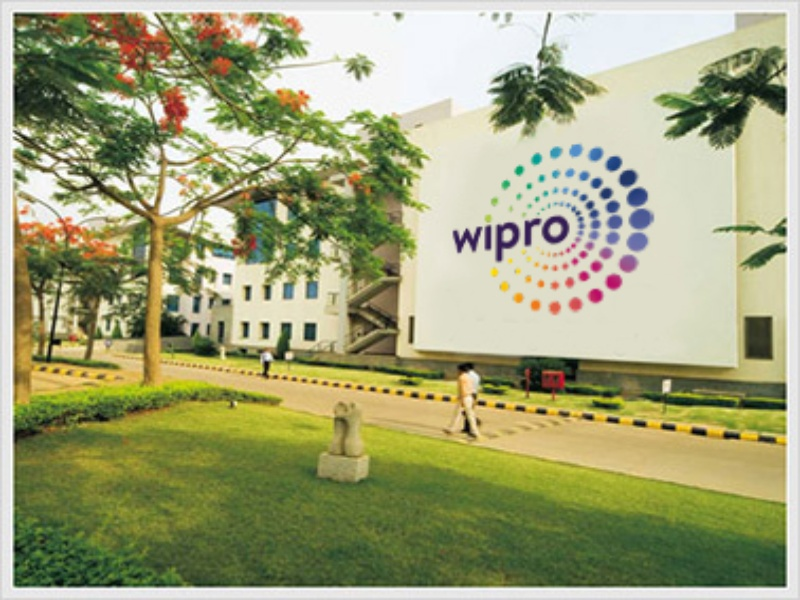wipro: (443, 137, 667, 317)
